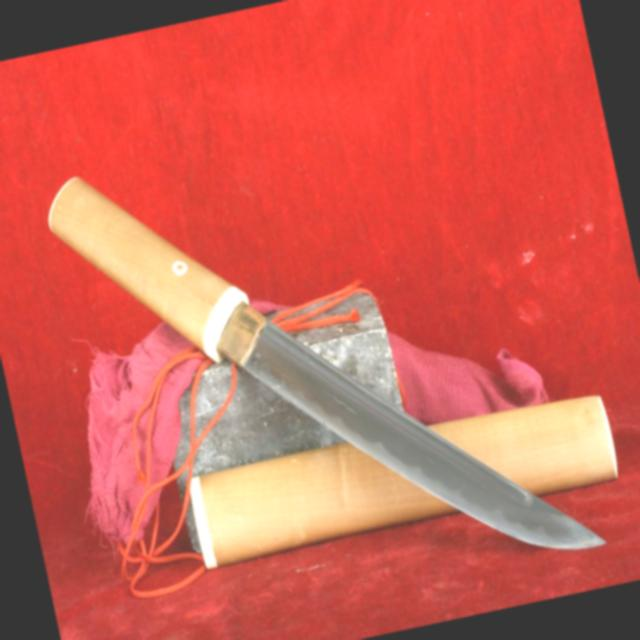short sword: (25, 78, 640, 640)
